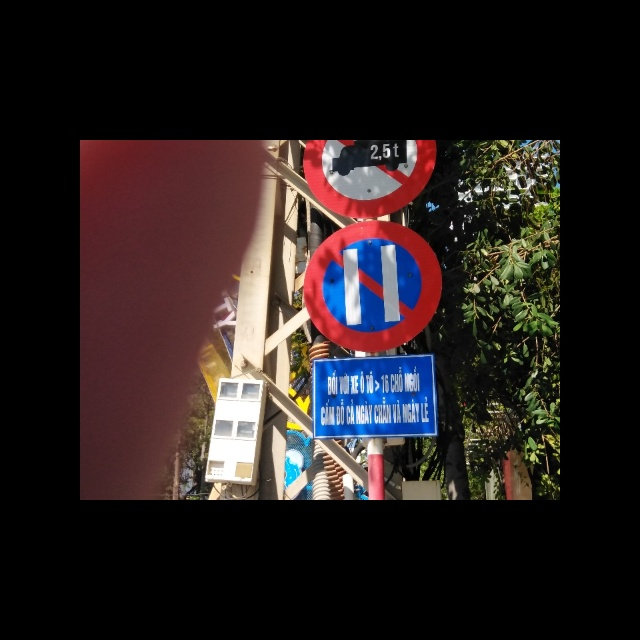Cấm đỗ xe ngày chẵn: (296, 221, 443, 352)
